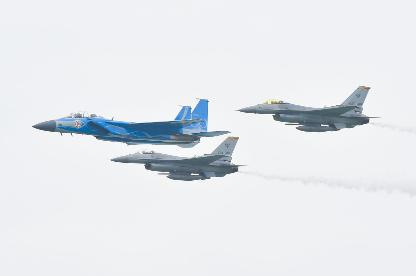F117: (31, 97, 230, 147)
F14: (233, 85, 382, 132), (105, 136, 249, 180)
